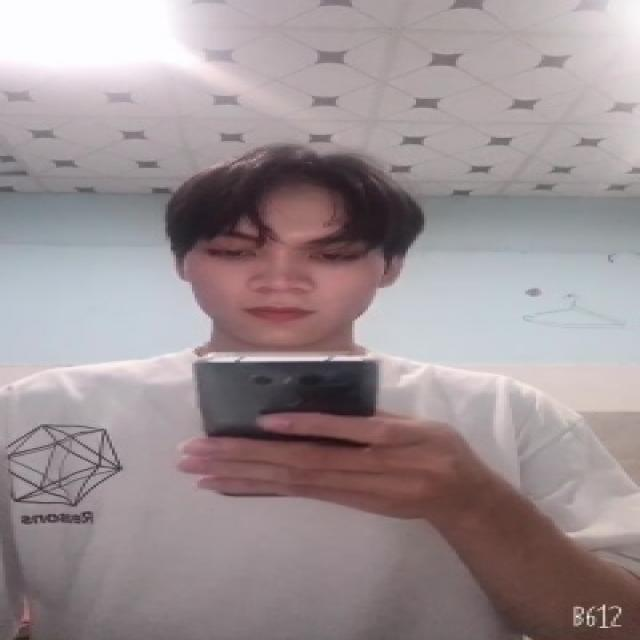Phone: (184, 356, 391, 440)
